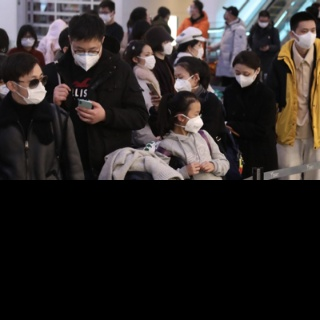with_mask: (23, 72, 48, 106), (73, 45, 102, 70), (296, 25, 318, 50), (184, 110, 204, 133), (234, 69, 256, 88), (174, 72, 193, 93), (140, 51, 156, 68), (20, 33, 36, 48), (98, 9, 112, 24), (194, 41, 205, 59), (162, 40, 174, 56), (188, 4, 196, 16), (258, 20, 270, 28), (147, 14, 153, 25)
